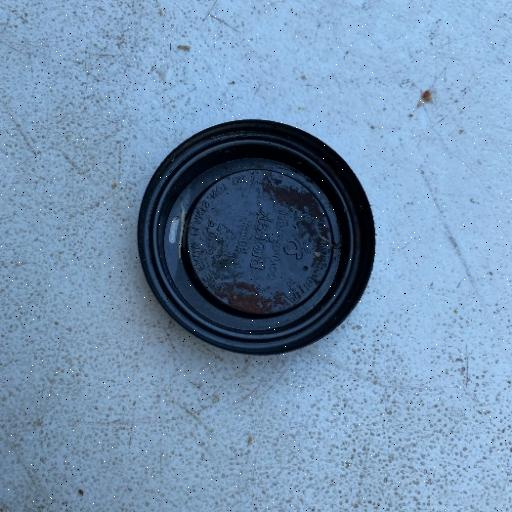Plastic: (134, 116, 378, 358)
